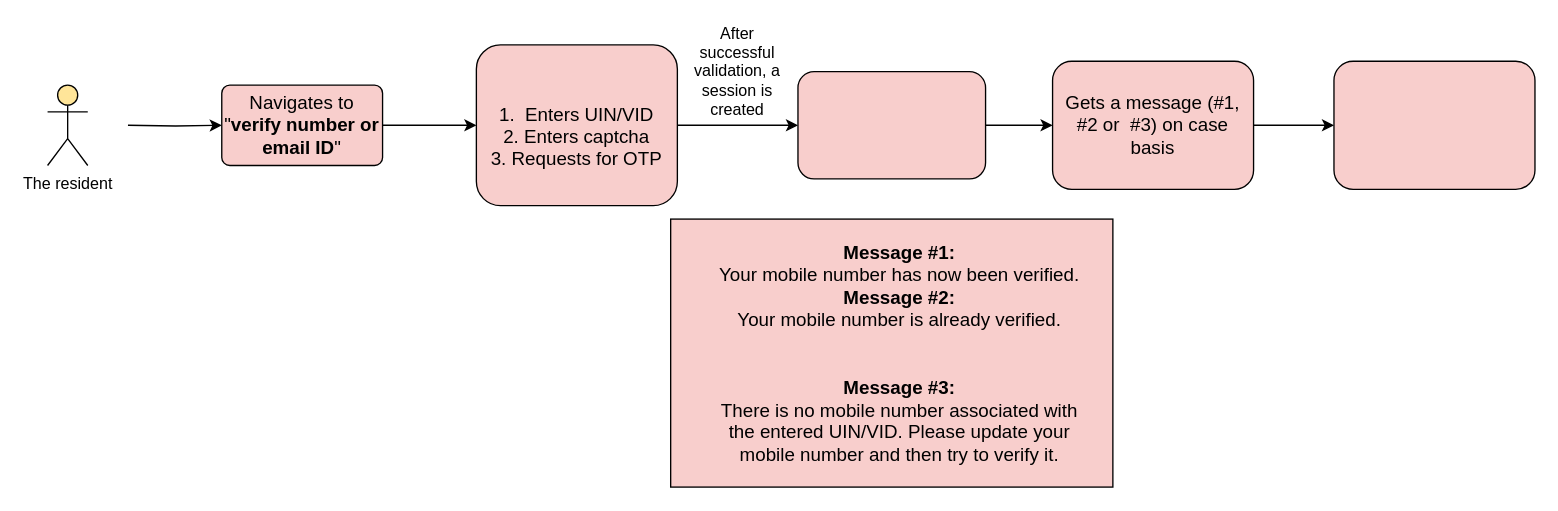
The diagram is 1558 pixels wide and 511 high, and some of its shapes have lost their labels. Here are the shapes that lost their labels. From the top down, the centre of each, then its label:
[891,124]: Gets a message: OTP has been sent to 9xxxxxxxx90
[1434,124]: Gets a notification of the transaction over registered email Id & phone number
